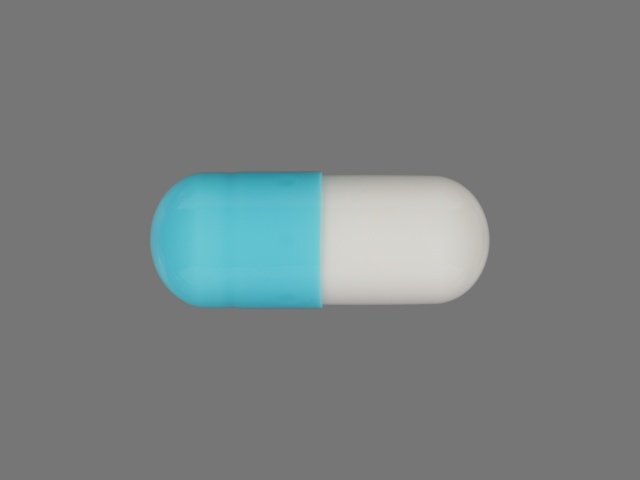capsule: (145, 166, 496, 312)
